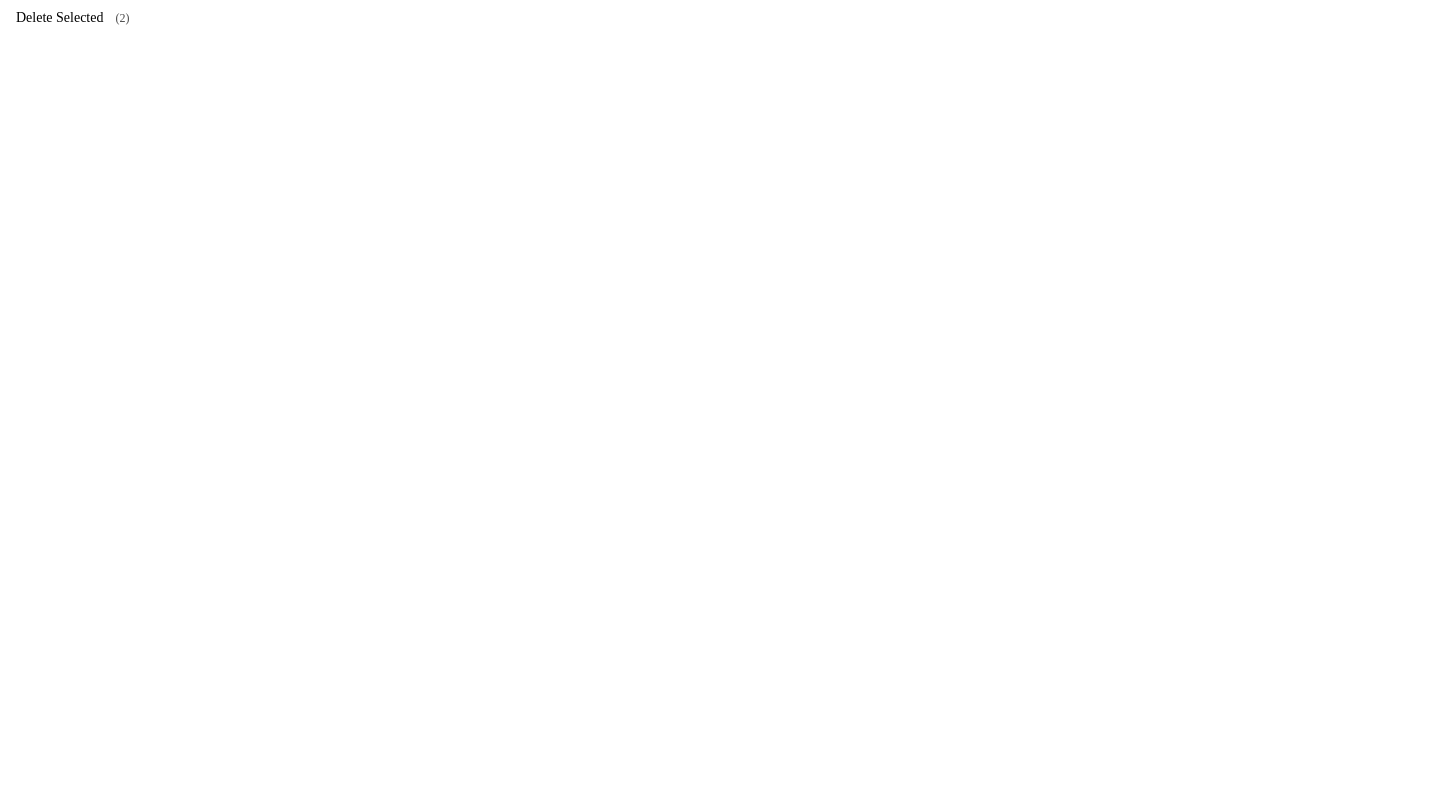
Test: BulkActionButton › should show confirmation dialog when requiresConfirmation is true
The width and height of the screenshot is (1440, 810).
Step 1. Click the button → (73, 18), box [0, 0, 146, 36]
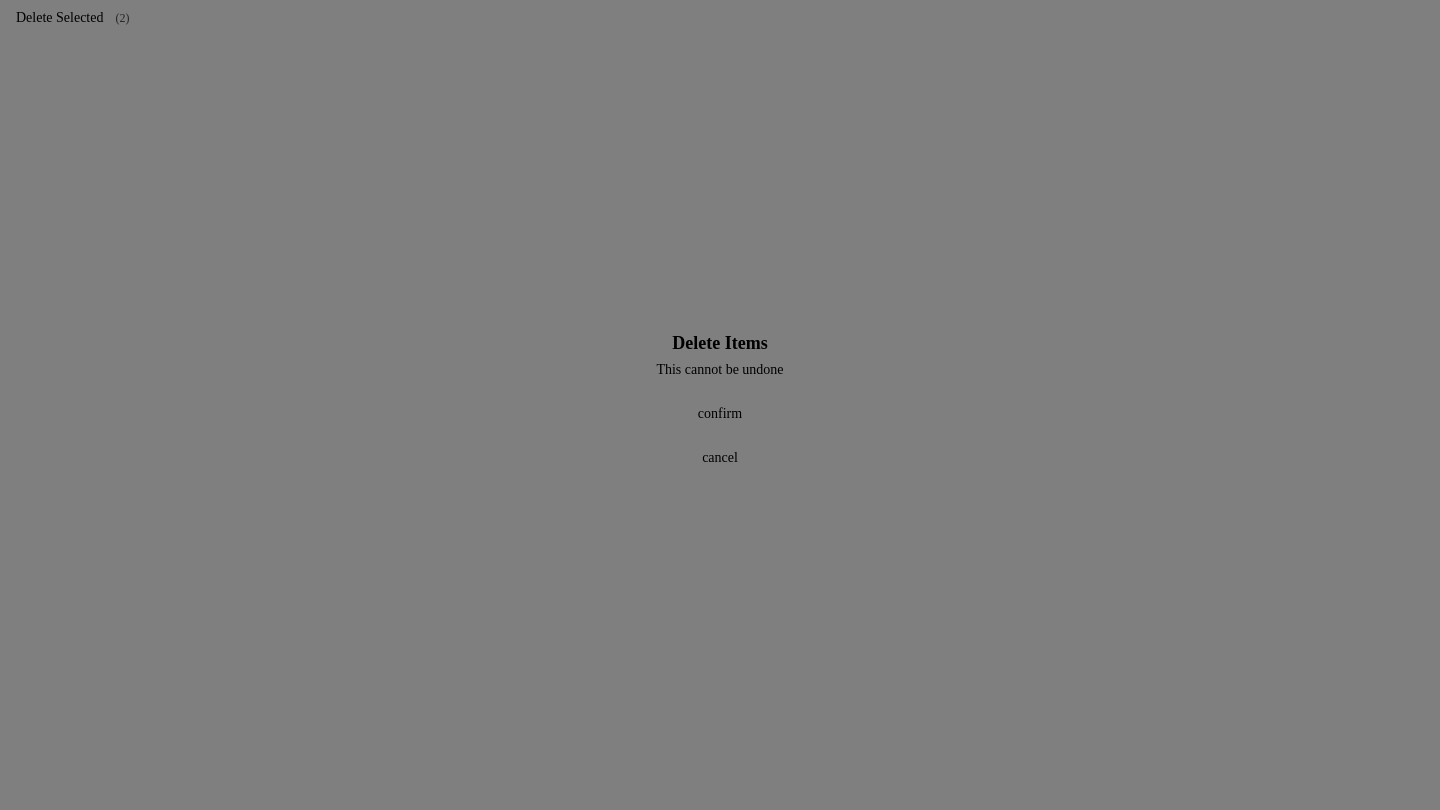
Now the heading "Delete Items" is shown, box [672, 333, 768, 353]
Now the text "This cannot be undone" is shown, box [656, 362, 784, 377]
